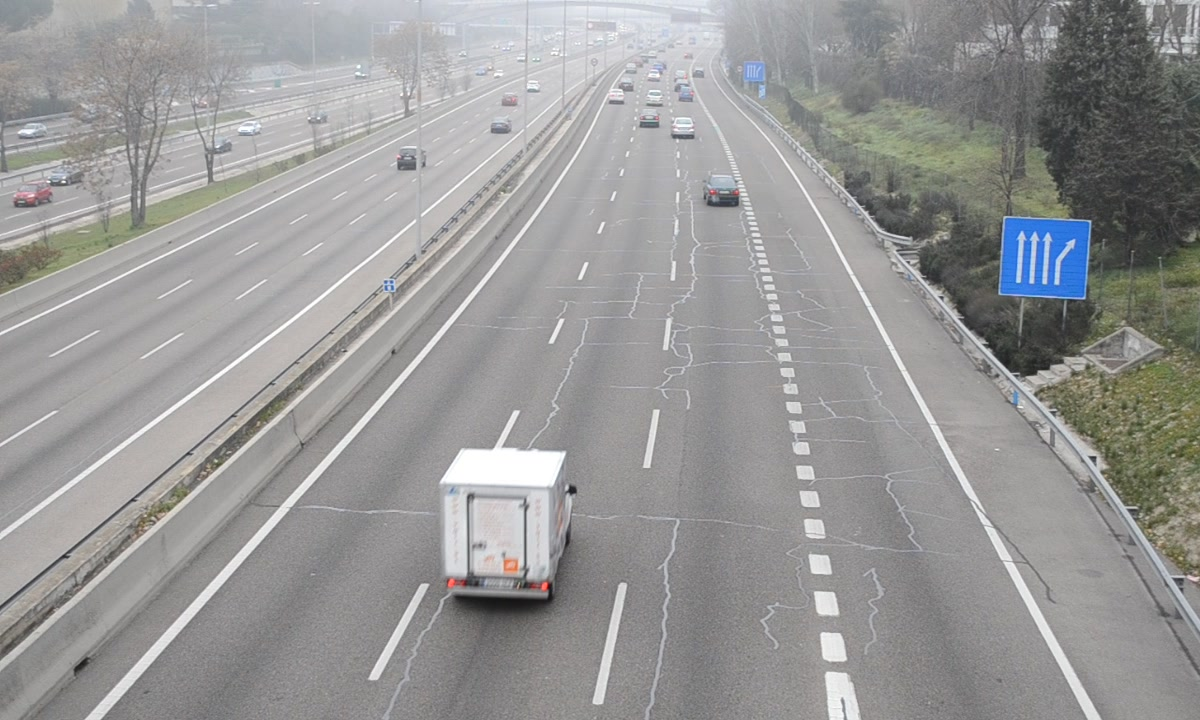car: (702, 172, 741, 208)
small-truck: (441, 448, 575, 602)
